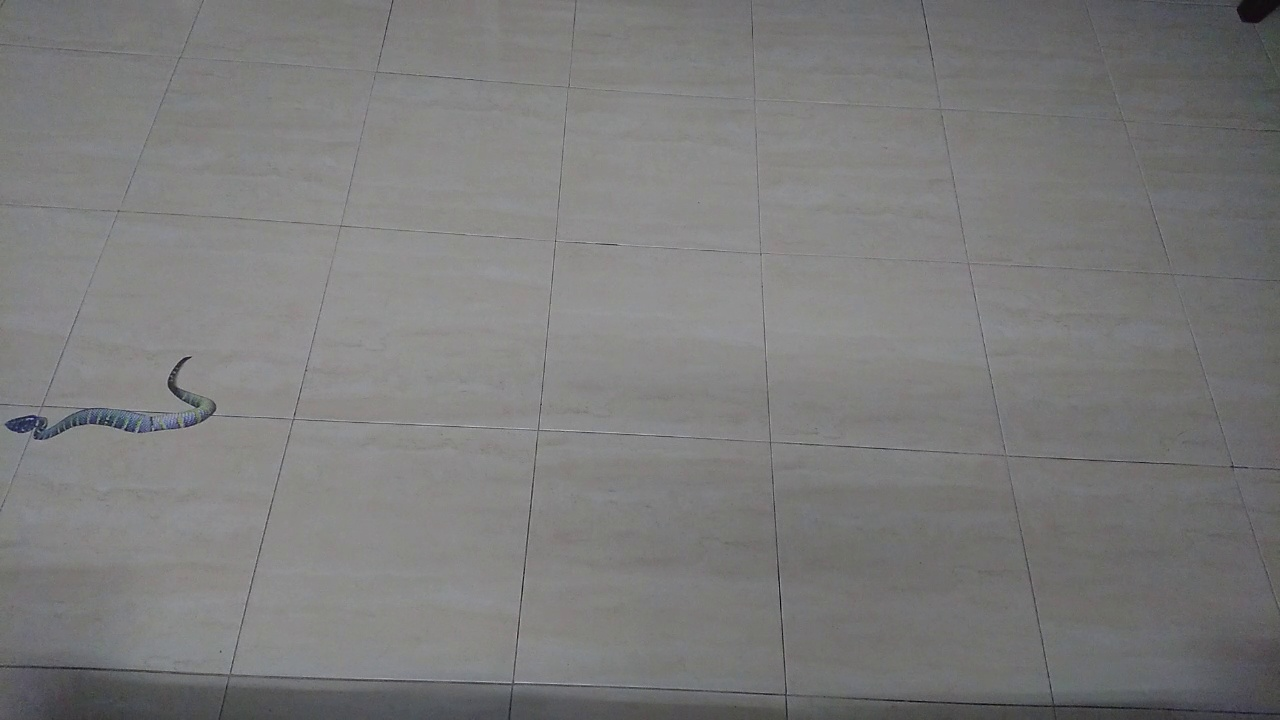snake: (1, 340, 231, 460)
